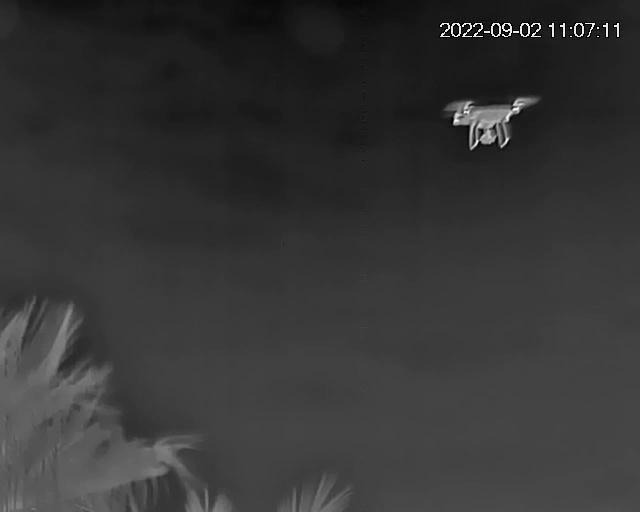DJI-Phantom: (450, 97, 537, 149)
